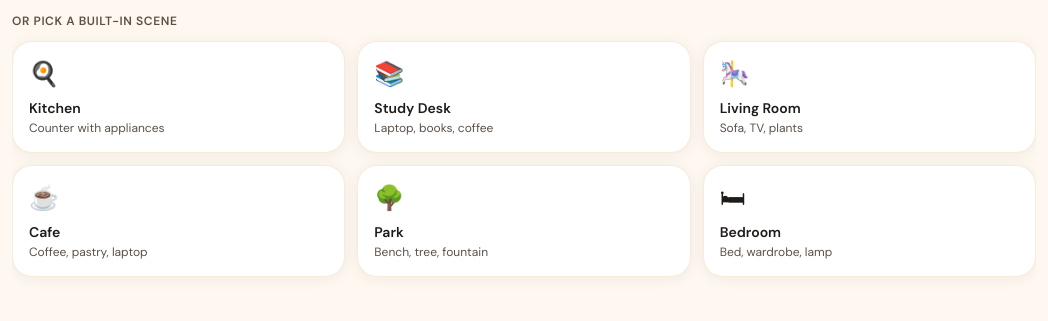
SceneGallery › shows error when fetch fails
Click the button "🌳 Park Bench, tree, fountain": (431, 252) [357,165,691,277]
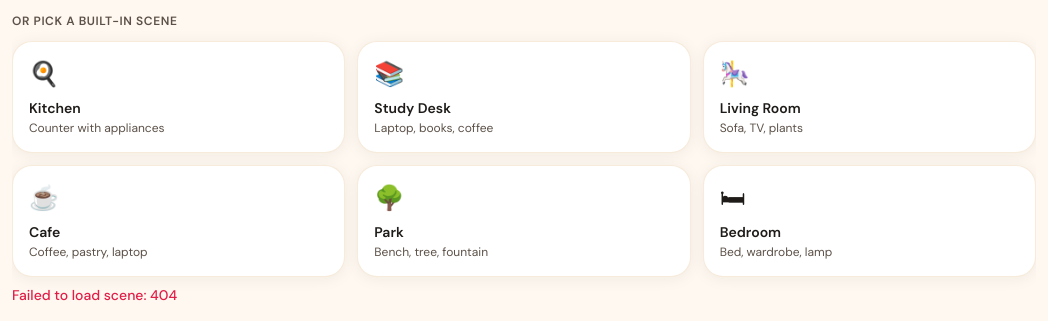
Now the message "Failed to load scene: 404" is shown, box [12,286,177,304]
